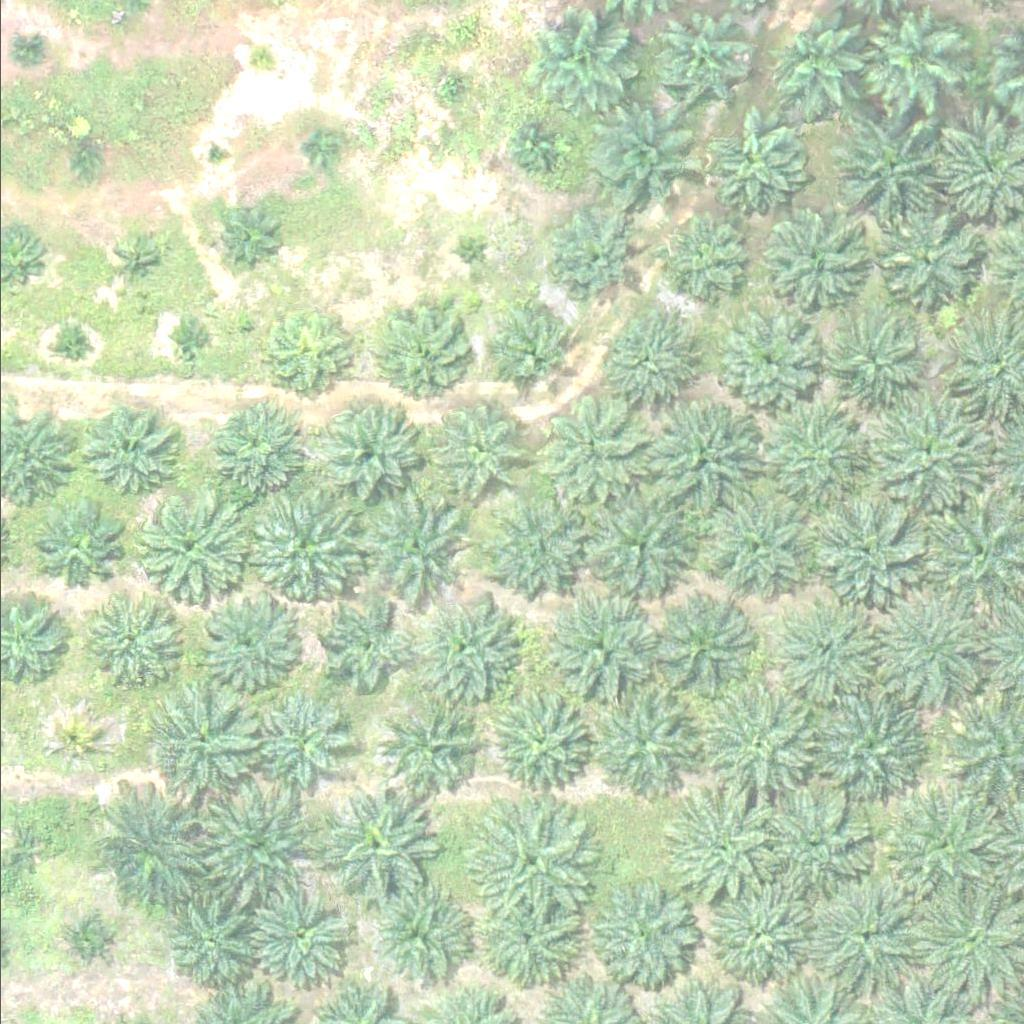Kelapa_Sawit: (640, 393, 766, 518), (747, 390, 873, 515), (869, 390, 995, 515), (796, 491, 922, 616), (576, 484, 702, 609), (858, 586, 984, 711), (805, 684, 931, 809), (694, 680, 820, 805), (649, 788, 775, 913), (747, 781, 873, 906), (806, 875, 932, 1000), (699, 871, 825, 996), (578, 867, 704, 992), (467, 796, 593, 921), (197, 781, 323, 906), (86, 789, 212, 914), (240, 482, 365, 607), (121, 482, 246, 607), (829, 113, 942, 226), (580, 104, 693, 217), (696, 489, 809, 602), (141, 689, 254, 802), (406, 594, 519, 707), (475, 491, 588, 604), (357, 488, 470, 601), (248, 881, 362, 993), (328, 791, 442, 903), (646, 596, 759, 708), (580, 685, 693, 797), (530, 393, 643, 505), (768, 11, 869, 111), (701, 112, 802, 212), (753, 209, 854, 309), (874, 207, 975, 307), (715, 313, 816, 413), (590, 309, 691, 409), (895, 796, 996, 896), (485, 887, 586, 987), (252, 693, 353, 793), (306, 597, 407, 697), (197, 592, 298, 692), (436, 395, 537, 495), (319, 406, 420, 506), (200, 403, 301, 503), (72, 400, 173, 500), (481, 298, 582, 398), (375, 300, 476, 400), (254, 305, 355, 405), (527, 11, 628, 111), (859, 7, 959, 107), (764, 608, 864, 708), (371, 890, 471, 990), (491, 690, 591, 790), (383, 699, 483, 799), (547, 602, 647, 702), (80, 603, 169, 691), (657, 13, 745, 101), (823, 316, 911, 404), (163, 899, 251, 987), (30, 507, 118, 595), (548, 213, 637, 300), (656, 212, 744, 299), (211, 200, 274, 263), (509, 119, 560, 169), (61, 908, 112, 958), (45, 719, 95, 769), (64, 136, 102, 174), (429, 71, 467, 109), (448, 233, 486, 271), (239, 39, 277, 77), (170, 330, 208, 368), (53, 324, 91, 361), (120, 242, 158, 279), (10, 36, 47, 74), (300, 123, 338, 160), (203, 142, 228, 167)
